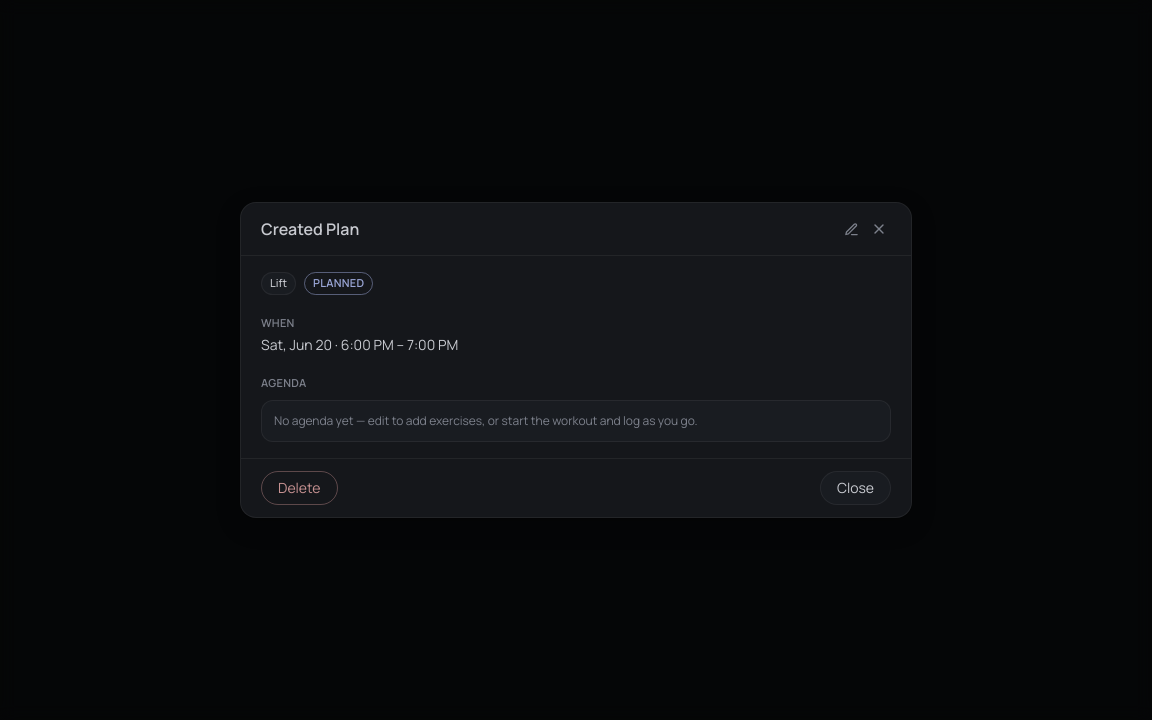
Test case: PlannedWorkoutModal › surfaces a delete failure and keeps the modal open
Click the button "Delete" at (299,488), box [261, 471, 338, 505]
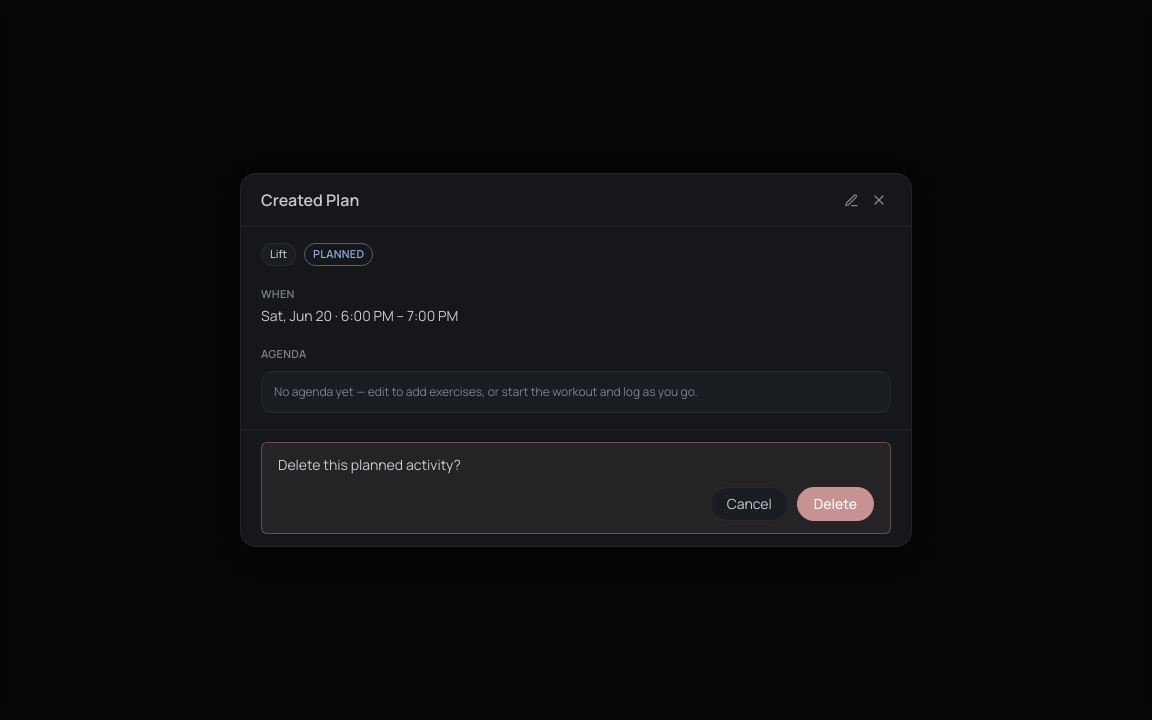
Click the button "Delete" at (835,504), box [797, 487, 874, 521]
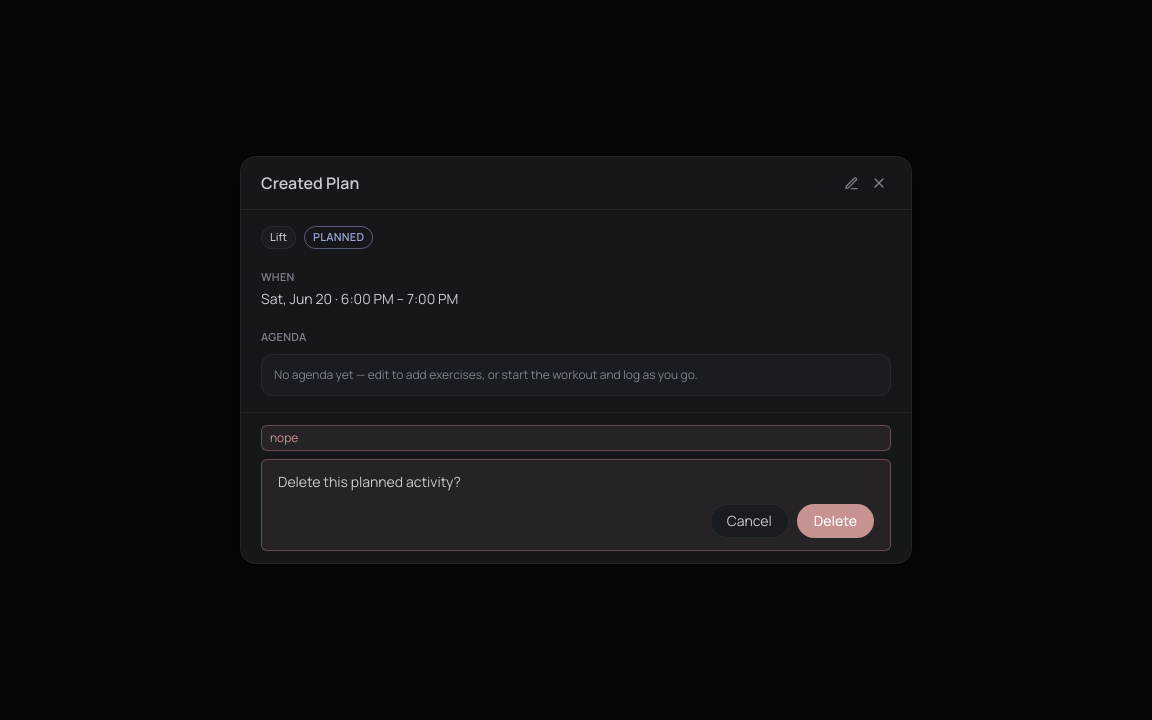
Now the text "Delete this planned activity?" is shown, box [278, 472, 461, 491]
Now the text "nope" is shown, box [261, 425, 891, 451]
